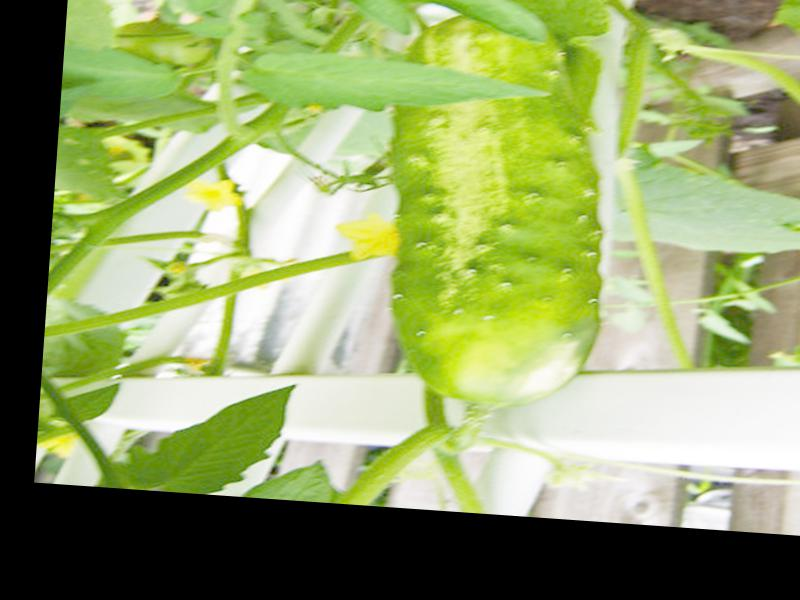Cucumber: (382, 16, 617, 413)
